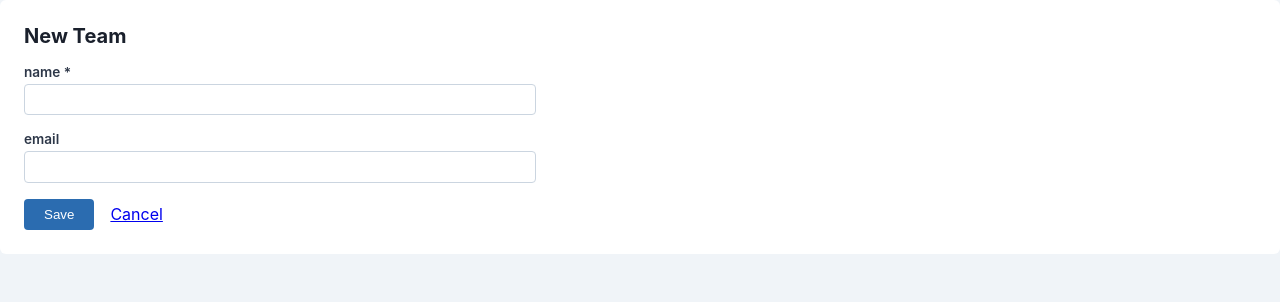
Test case: NodeEditor › says which scope was missing when a save is refused for it (#116)
Type "platform" into the field named "name" at [280, 100], box [24,84,536,115]
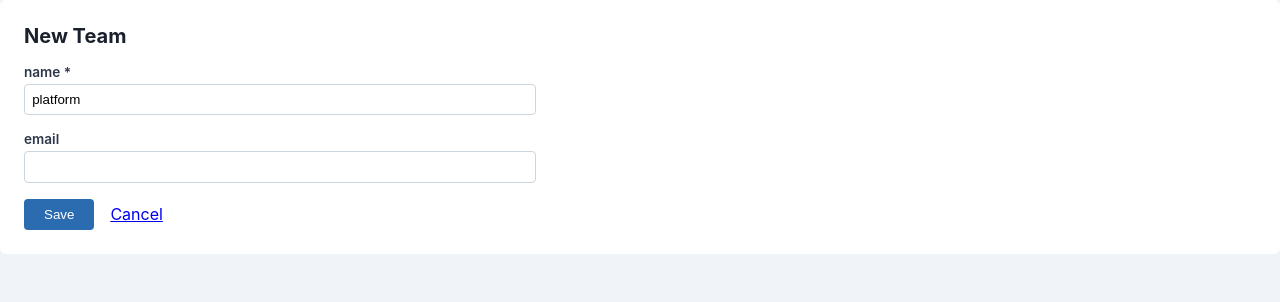
Submit the form, box [24,64,536,230]
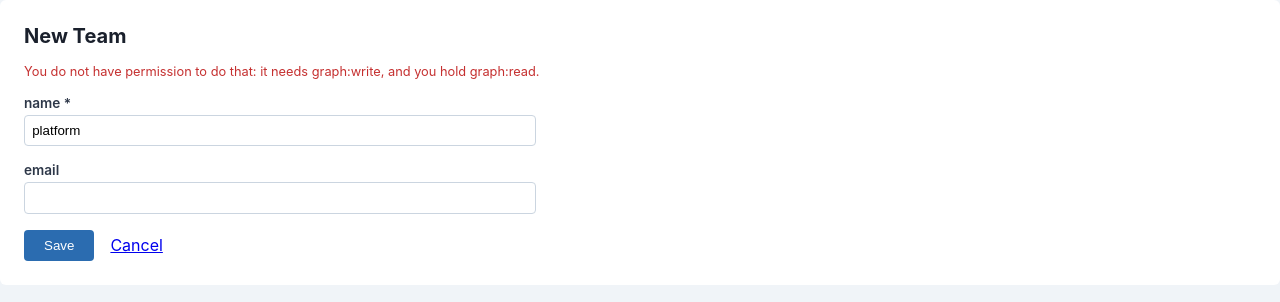
expect the text with test id "form-error" shows "You do not have permission to do that: it needs graph:write, and you hold graph:read.": met, box [24,64,540,79]
